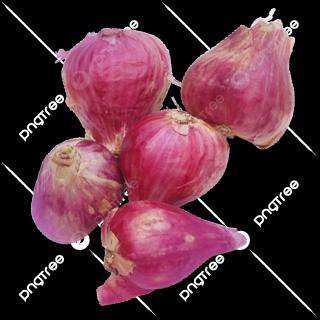Bawang Merah: (31, 12, 298, 307), (96, 200, 251, 307), (181, 11, 297, 151), (56, 28, 180, 157)
